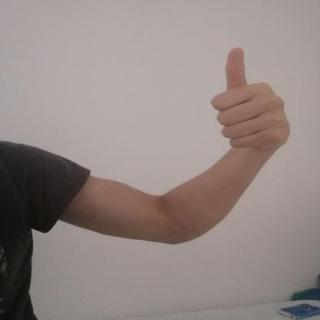ALIF: (200, 39, 305, 161)
